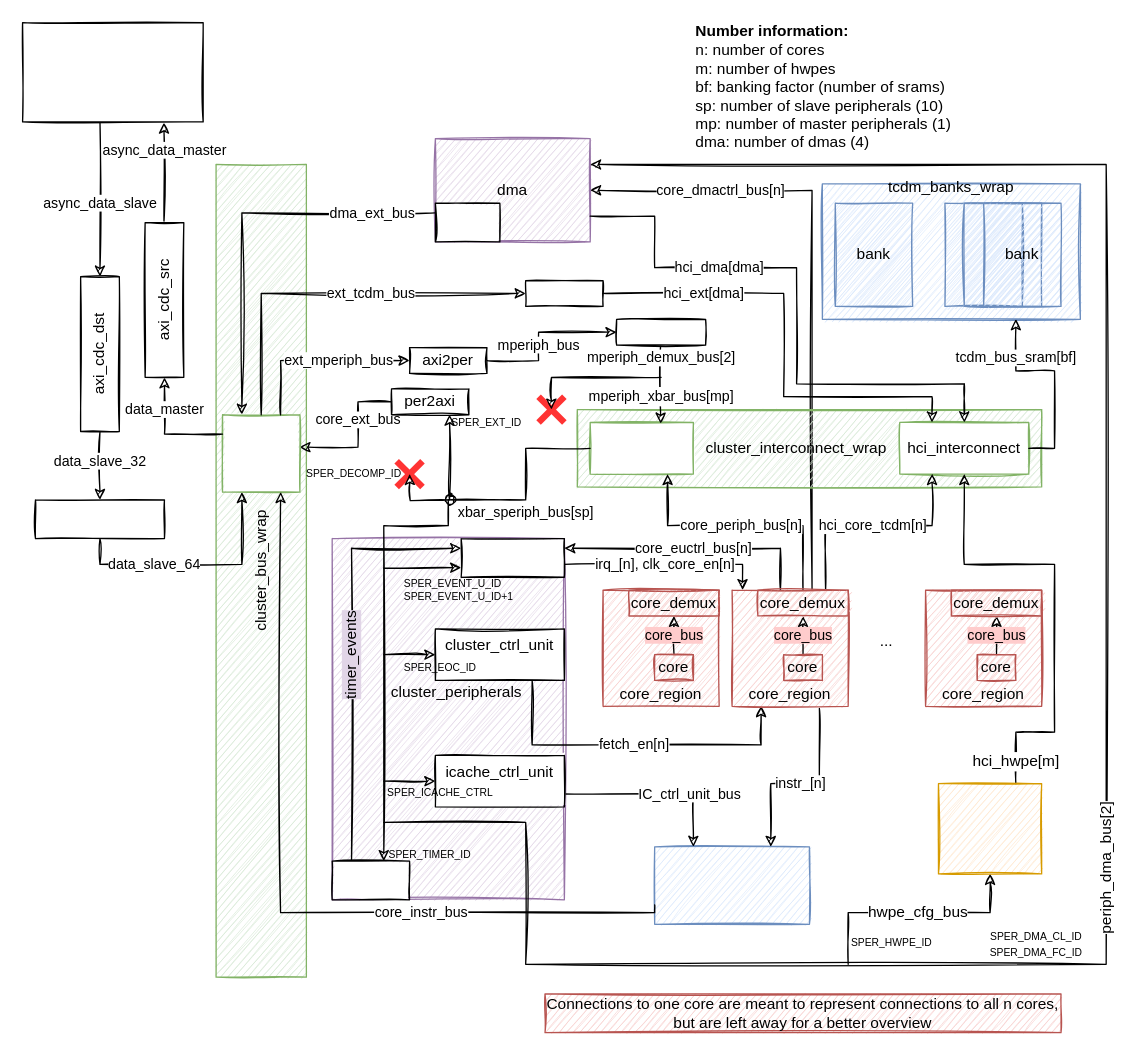
Some shapes in this 1139 by 1055 pixel diagram are drawn without their labels. Each missing label, with the centre of its shape:
"axi2mem" goes at point 563,292.
"axi_dw_converter" goes at point 99,519.
"axi_xbar" goes at point 260,452.
"event_unit" goes at point 512,557.
"FC" goes at point 112,71.
"HWPE" goes at point 989,828.
"icache" goes at point 731,885.
"mchan" goes at point 467,222.
"per_demux" goes at point 660,331.
"timer" goes at point 370,880.
"xbar_pe_wrap" goes at point 641,447.
